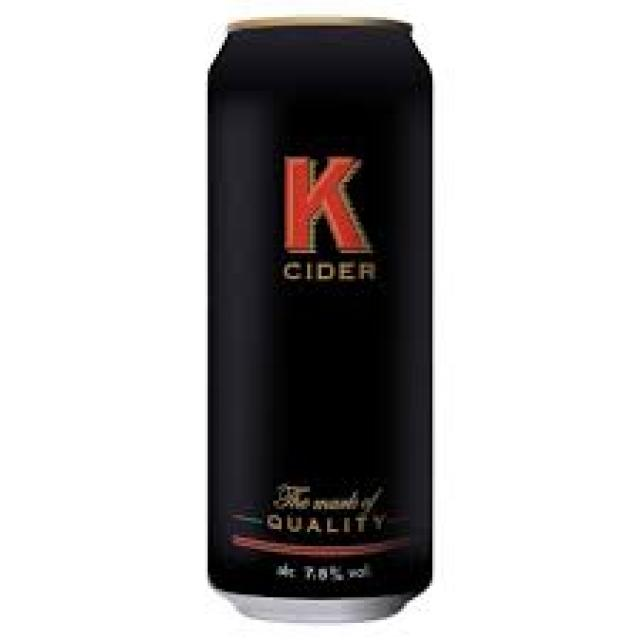Cans: (188, 3, 449, 626)
